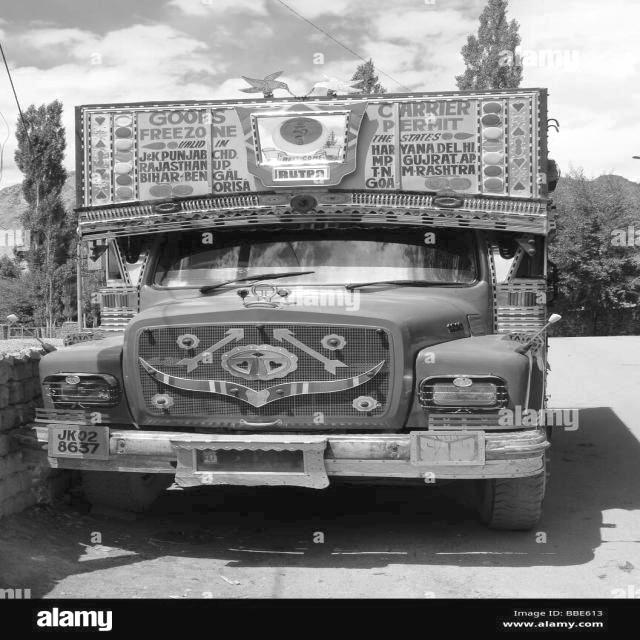HCV: (23, 86, 613, 602)
